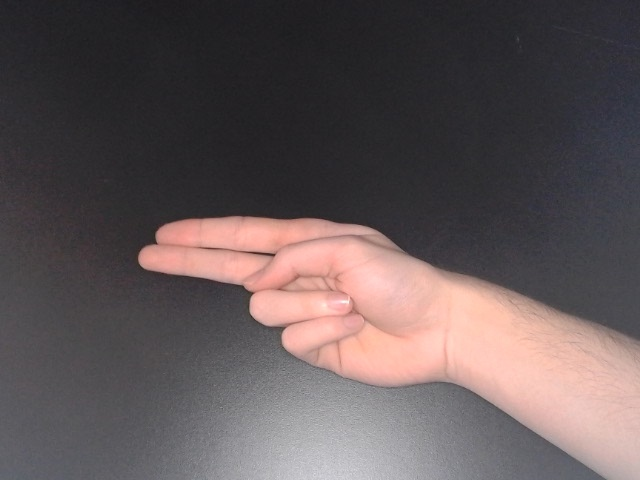h: (134, 212, 476, 399)
